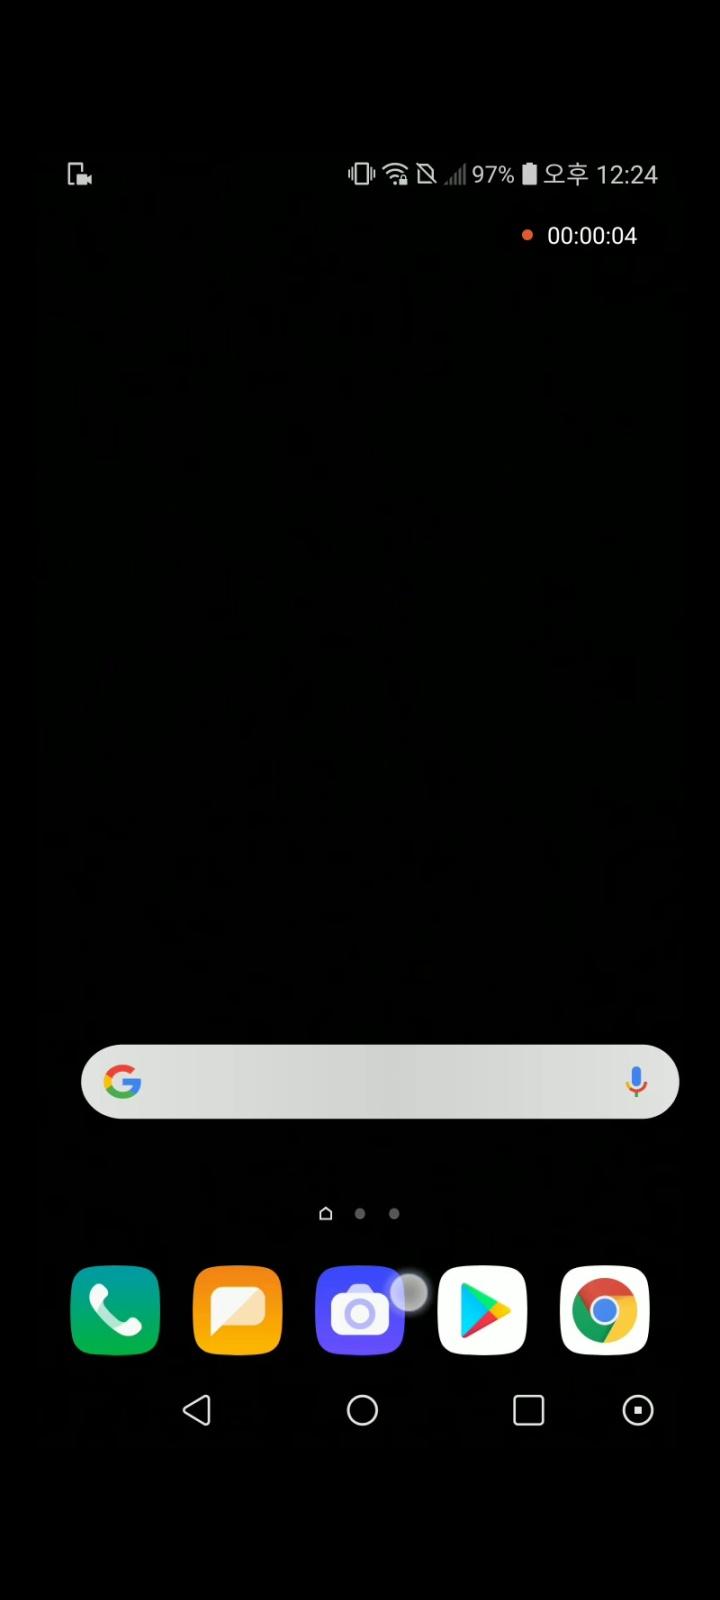Cursor: (387, 1271, 432, 1316)
